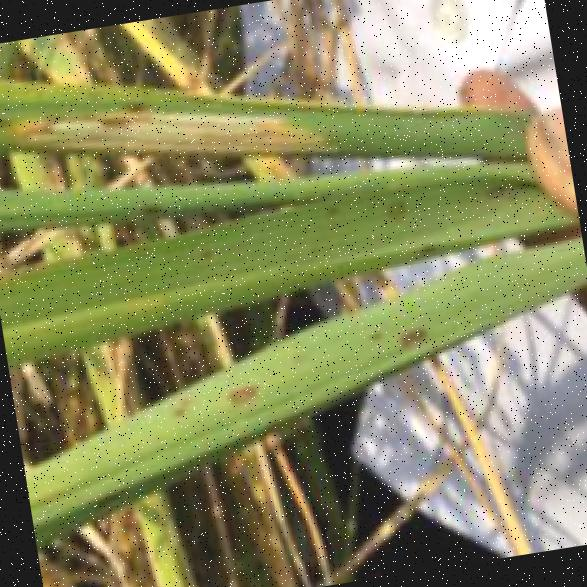Brown_Spot: (214, 374, 278, 408), (386, 316, 442, 350), (159, 389, 196, 418), (132, 194, 171, 220), (382, 190, 412, 220), (190, 237, 216, 259), (0, 105, 12, 130)
